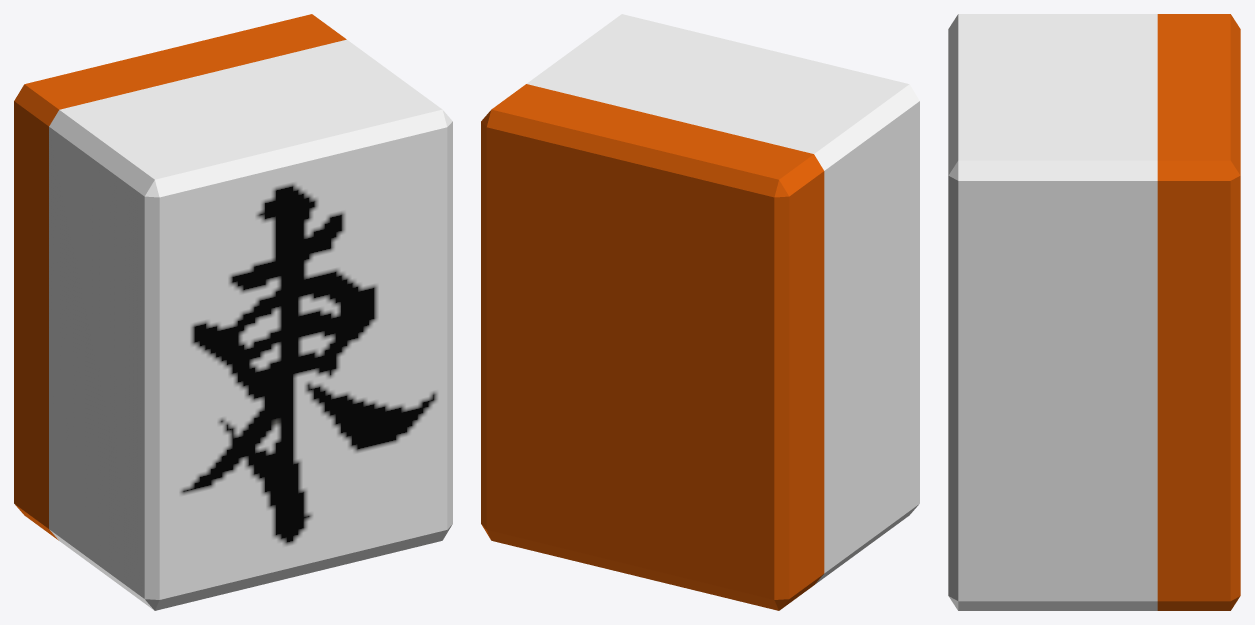
The model's file is East.gltf.
3 views of the same model, side by side, from view 1: azimuth 30°, elevation 25°; view 2: azimuth 150°, elevation 25°; view 3: azimuth 270°, elevation 25° (orthographic). The views are drawn at different scales.
Visible parts, largest first — view 1: Cube; view 2: Cube; view 3: Cube.
Boxes of the visible parts, box(x1,y1,x2,y2) form: Cube: box(14, 14, 452, 610); Cube: box(481, 14, 919, 610); Cube: box(948, 14, 1240, 610).
Size of the model in its own units: 1.95 by 2.6 by 1.53.
Materials: 3 (1 with a texture image).
